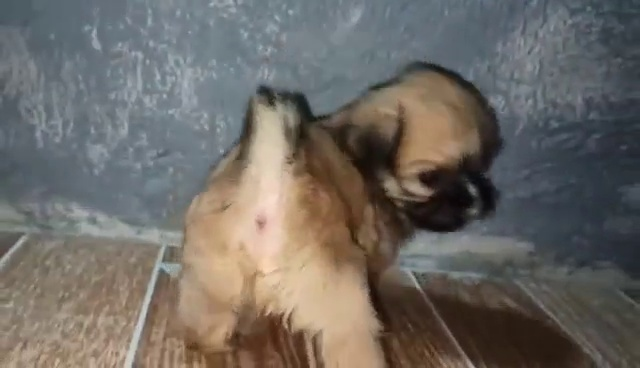dog: (178, 70, 505, 368)
